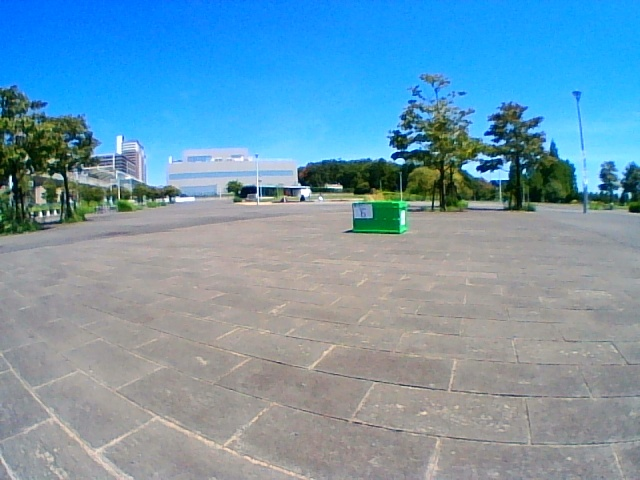green_box: (353, 202, 406, 233)
tag: (354, 204, 372, 218)
